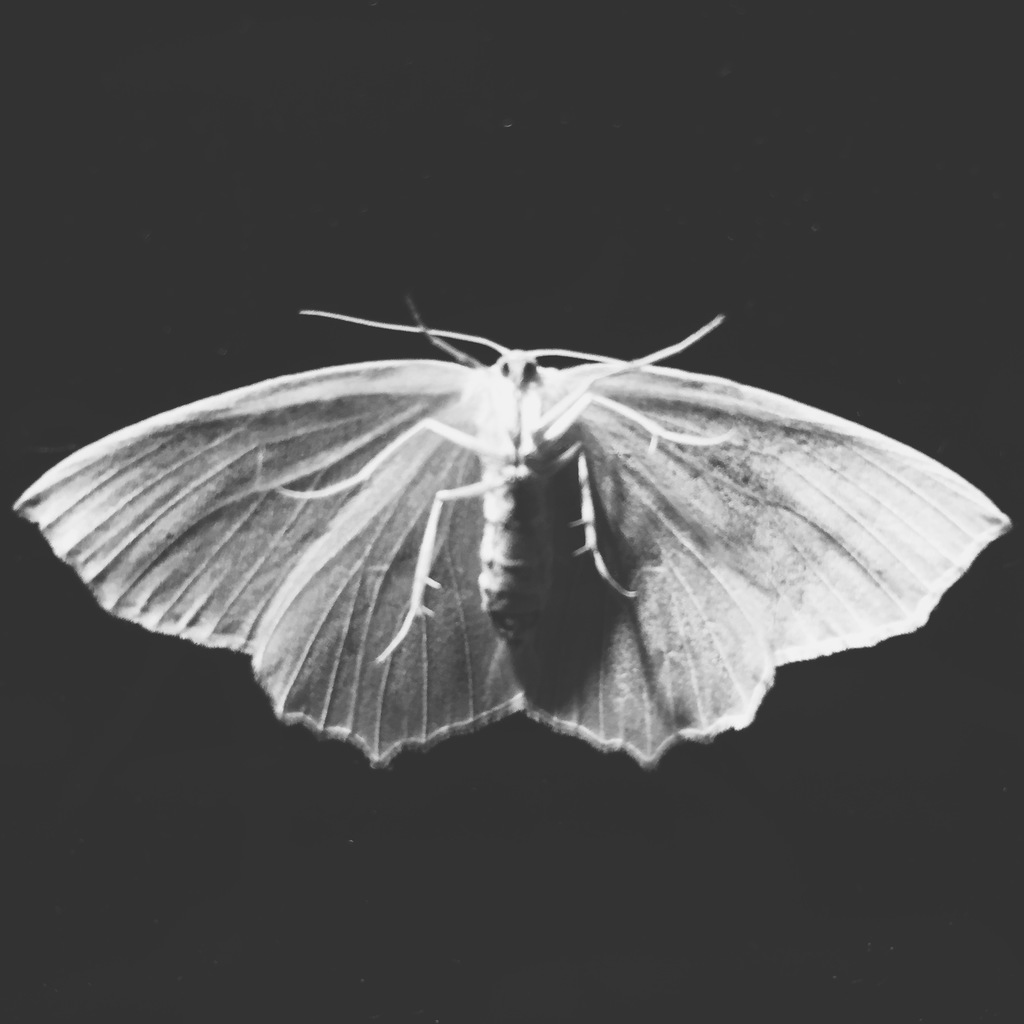Butterfly: (24, 262, 1022, 785)
